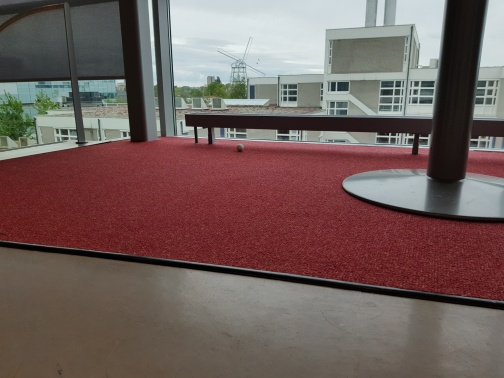egg: (233, 143, 246, 153)
